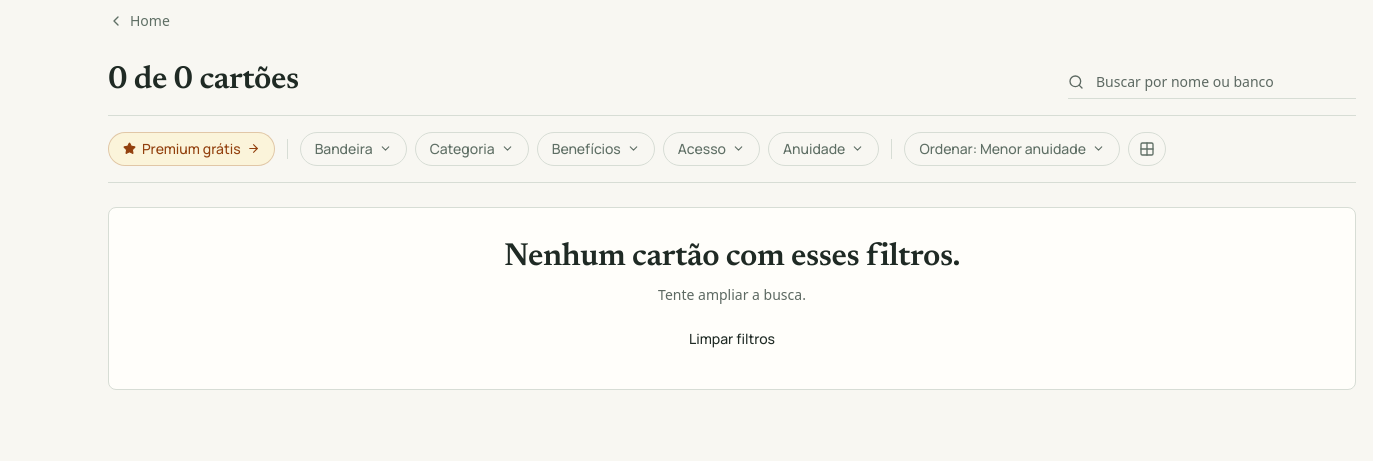
it: catalog URL state › writes filter changes to URLSearchParams
Type "itau" into the search field labelled "Buscar". click: (1212, 82)
box: [1068, 66, 1356, 99]
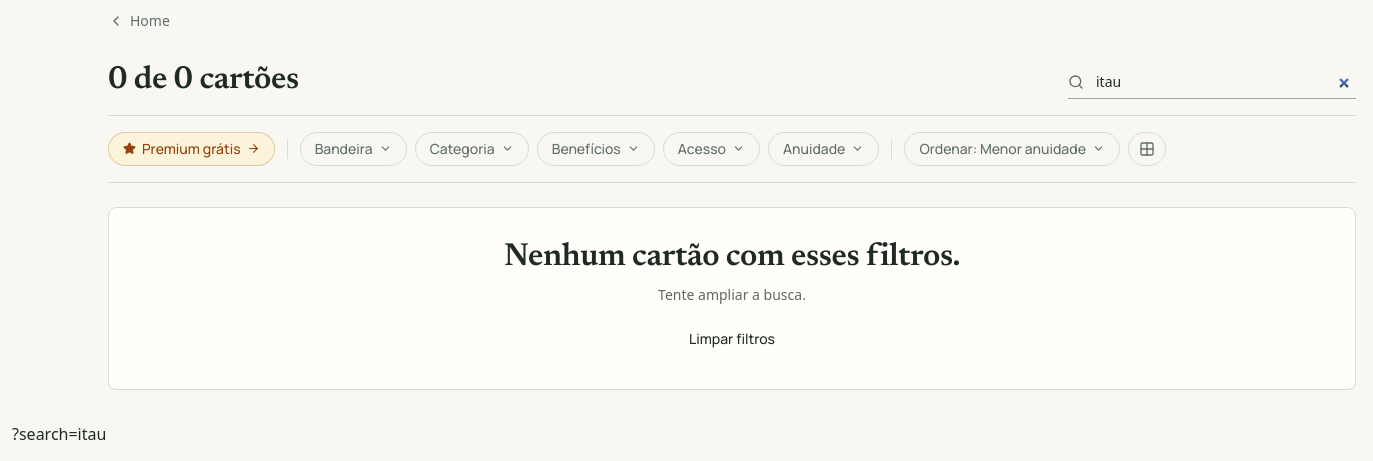
Check: the text with test id "location" reads "?search=itau", box [12, 423, 106, 445]
